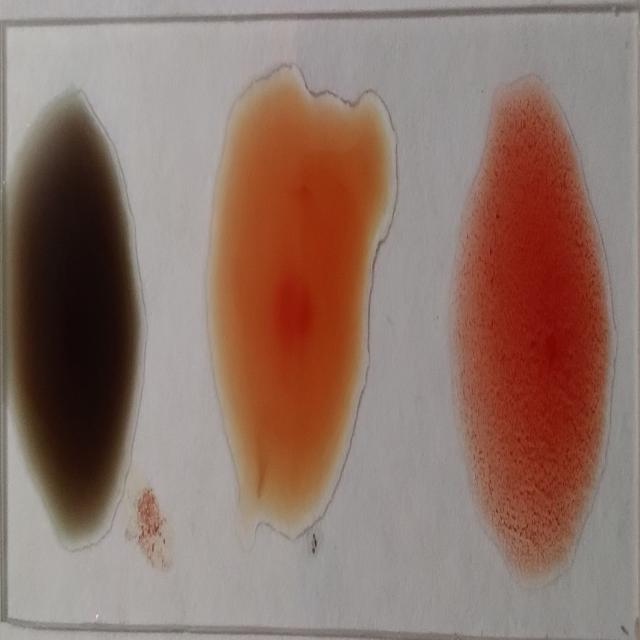D: (452, 82, 614, 588)
